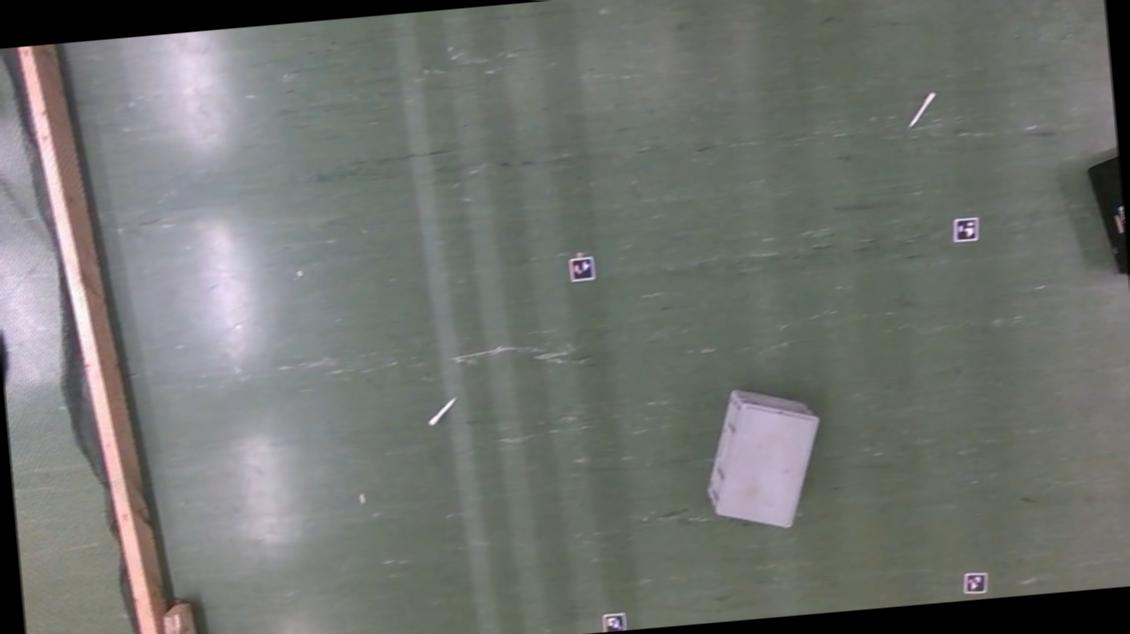probes: (906, 91, 936, 126), (427, 396, 457, 424)
rako: (698, 378, 828, 532), (1084, 143, 1130, 282)
